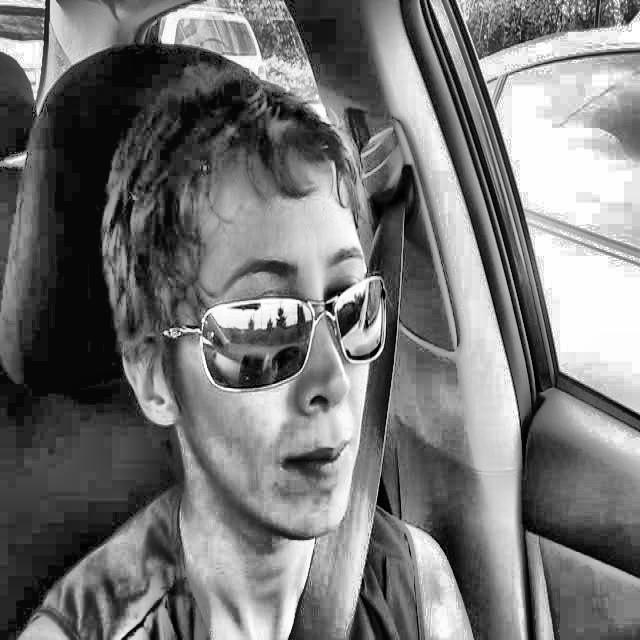closed_mouth: (266, 424, 380, 500)
